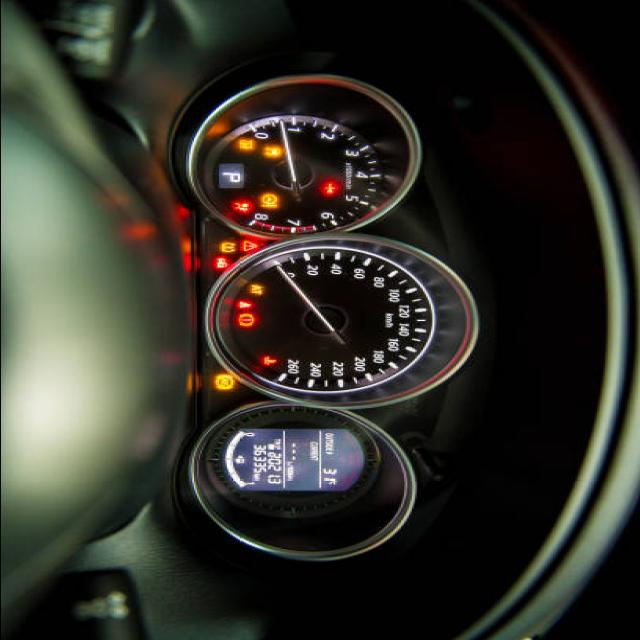Anti Lock Braking System: (210, 371, 238, 393)
Braking System Issue: (234, 310, 258, 330)
Electronic Stability Problem -ESP-: (259, 144, 284, 158)
Engine Overheating Warning Light: (259, 353, 279, 369)
Low Engine Oil Warning Light: (321, 181, 339, 195)
Low Tire Pressure Warning Light: (216, 240, 238, 256)
Master warning light: (238, 238, 260, 254)
SRS-Airbag: (231, 200, 251, 213)
